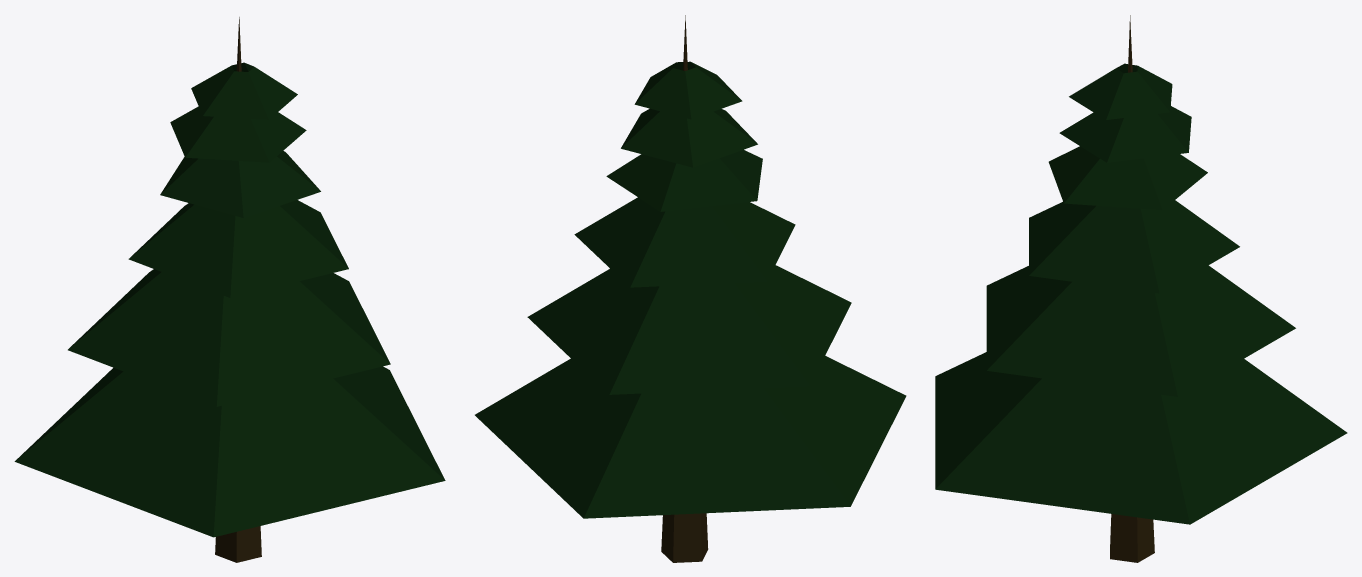
Rendered from tree.glb.
3 views of the same model, side by side, from view 1: azimuth 30°, elevation 25°; view 2: azimuth 150°, elevation 25°; view 3: azimuth 270°, elevation 25° (orthographic).
Visible parts, largest first — view 1: leafs.001, leafs; view 2: leafs.001, leafs; view 3: leafs.001, leafs.
Boxes of the visible parts, x1,y1,x2,y2 form: leafs.001: [14, 62, 445, 537]; leafs: [215, 17, 261, 562]; leafs.001: [475, 61, 906, 518]; leafs: [661, 15, 708, 562]; leafs.001: [935, 63, 1347, 524]; leafs: [1110, 15, 1154, 562].
Size of the model in its own units: 8.75 by 12 by 8.33.
